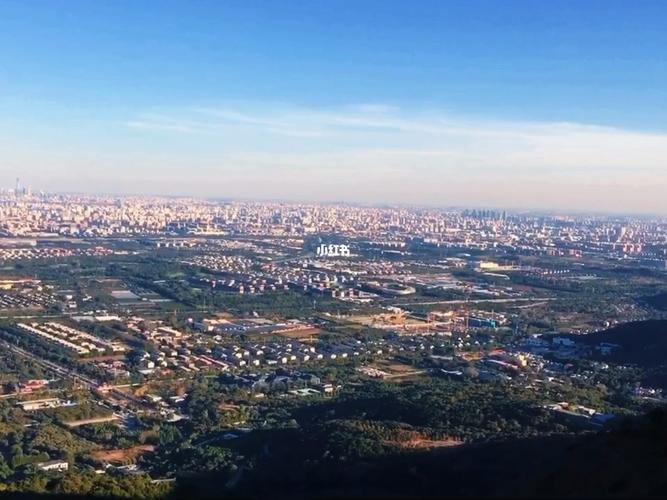sky_cloud: (0, 65, 655, 182)
